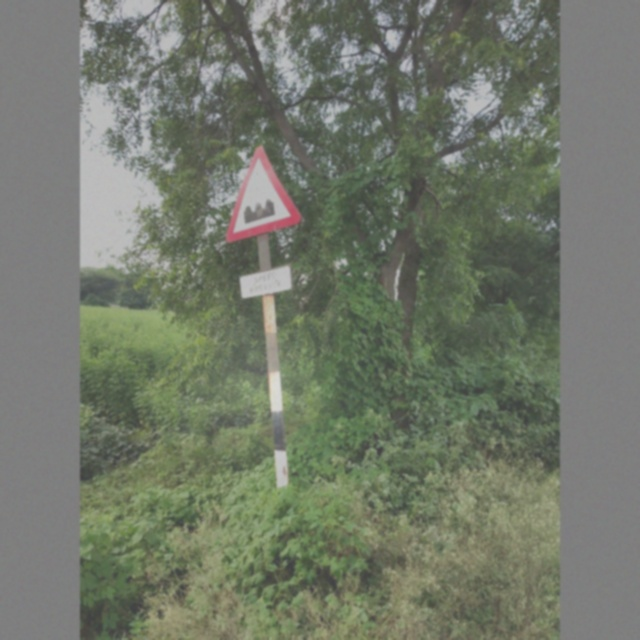Hump_or_Rough_Road: (224, 145, 305, 240)
